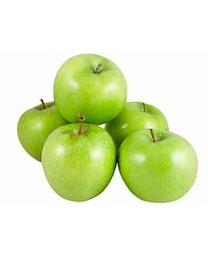apple: (117, 128, 197, 203), (40, 122, 115, 200), (52, 53, 127, 125), (17, 99, 75, 162), (106, 101, 168, 147)
